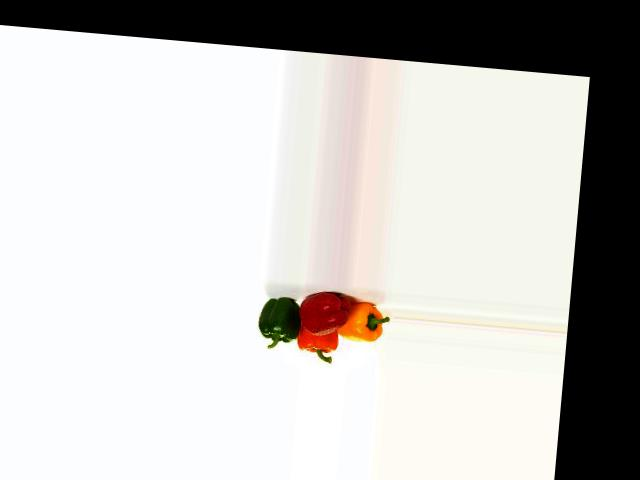bell_pepper: (256, 288, 305, 347)
